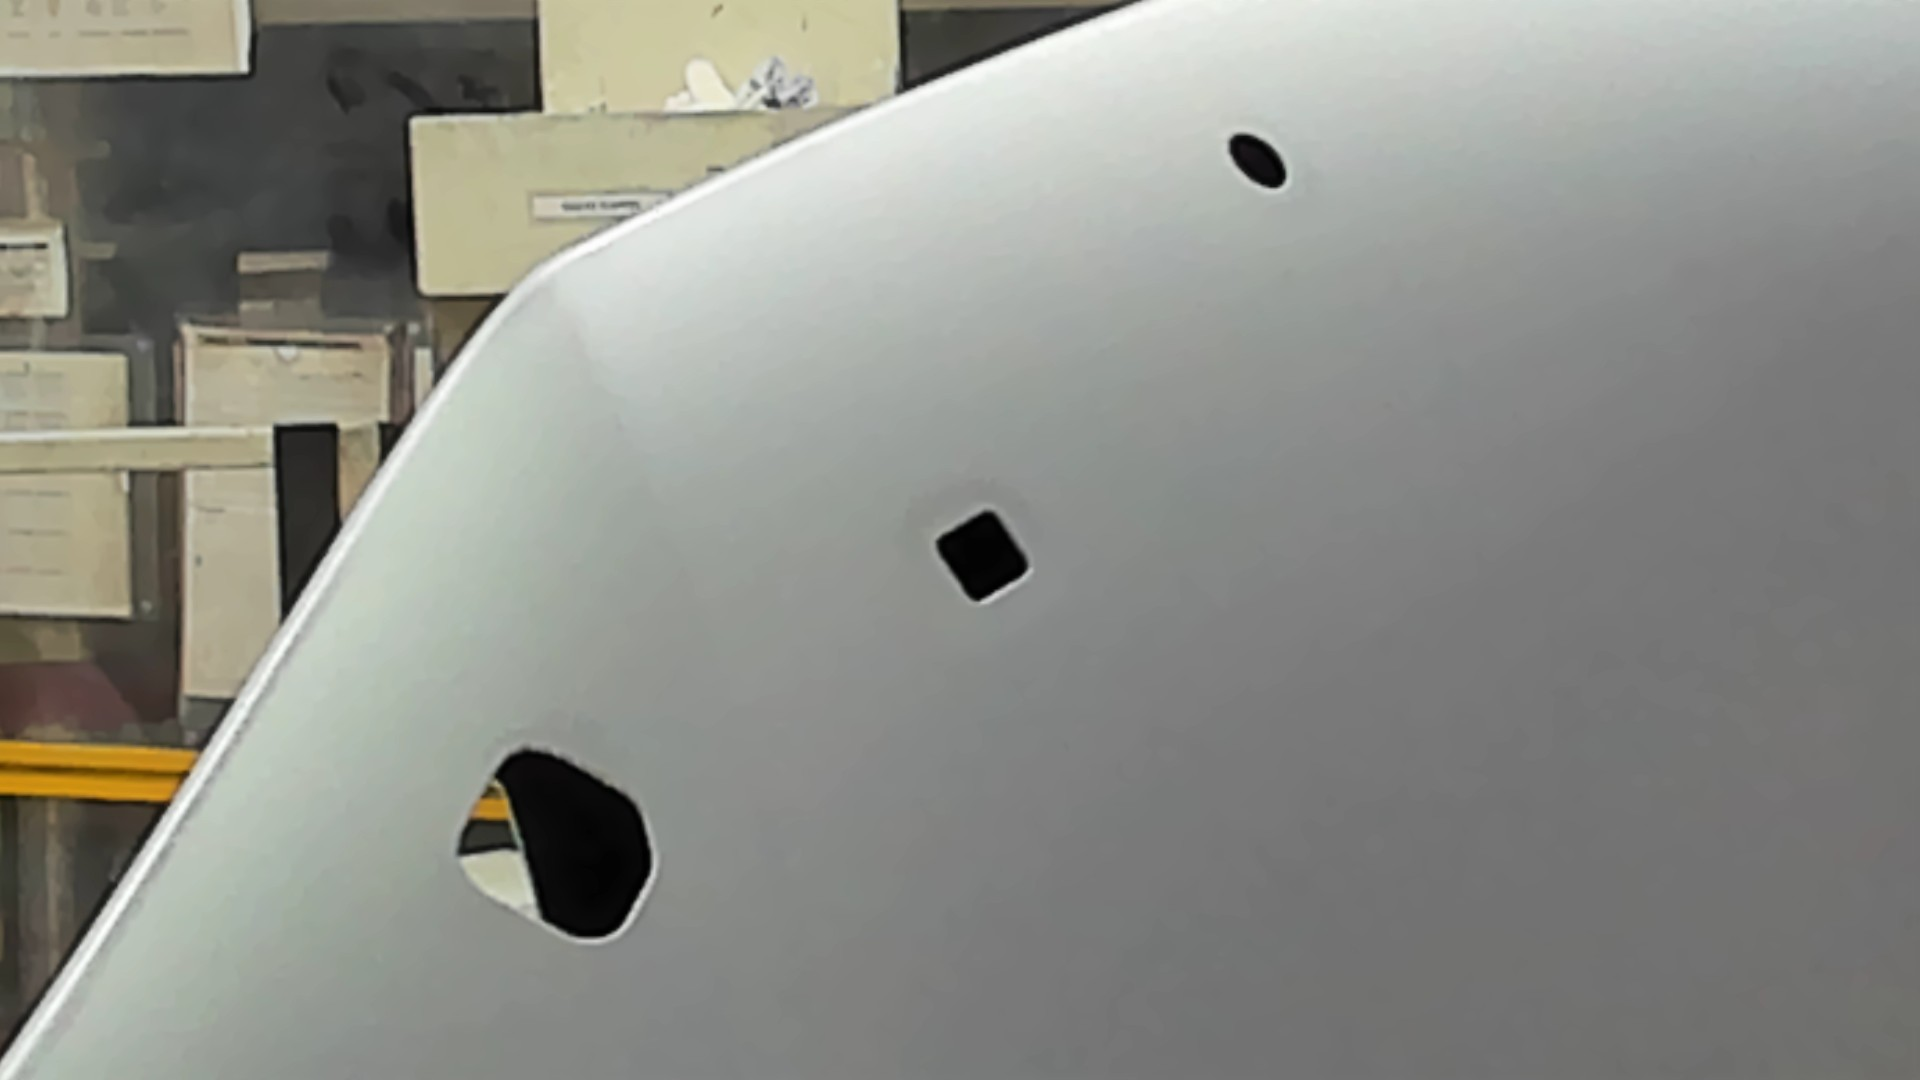chico: (1225, 127, 1294, 194)
grande: (455, 740, 661, 949)
mediano: (930, 500, 1036, 611)
